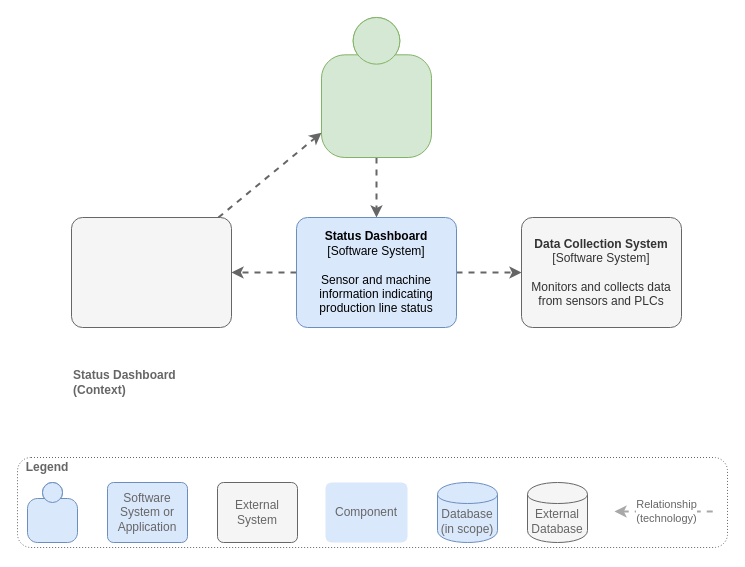
This 745x567 diagram has some shape labels left out. Each missing label, with the centre of its shape:
Alert System [Software System] Sends automatic notifications of problems.: point (151, 272)
Person: point (52, 512)
Support Staff [Person] Monitors the production line: point (376, 87)
